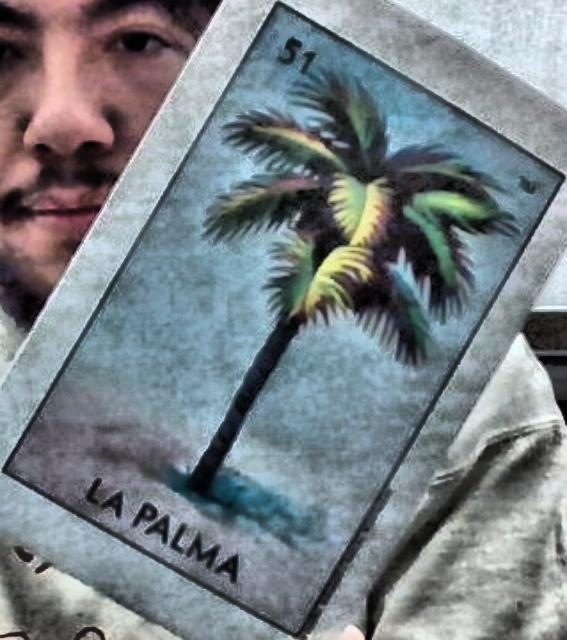La Palma: (5, 5, 561, 635)
